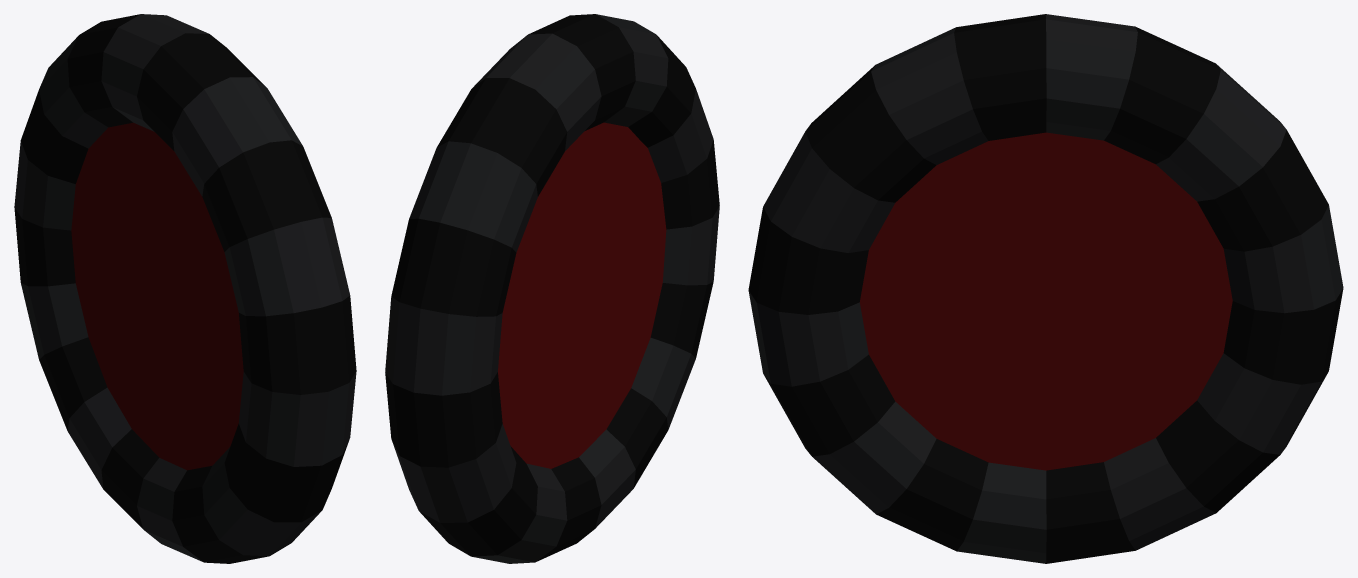
File: Rueda.obj
The picture shows the model from 3 angles, left to right: view 1: azimuth 30°, elevation 25°; view 2: azimuth 150°, elevation 25°; view 3: azimuth 270°, elevation 25°; orthographic projection. The views are drawn at different scales.
Visible parts, largest first — view 1: Torus.001; view 2: Torus.001; view 3: Torus.001.
Part boxes in pixels (x1,y1,x2,y2): Torus.001: [14, 14, 356, 563]; Torus.001: [385, 14, 719, 563]; Torus.001: [748, 14, 1343, 563].
Bounding box in the file's own units: 0.0763 × 0.3681 × 0.3681.
